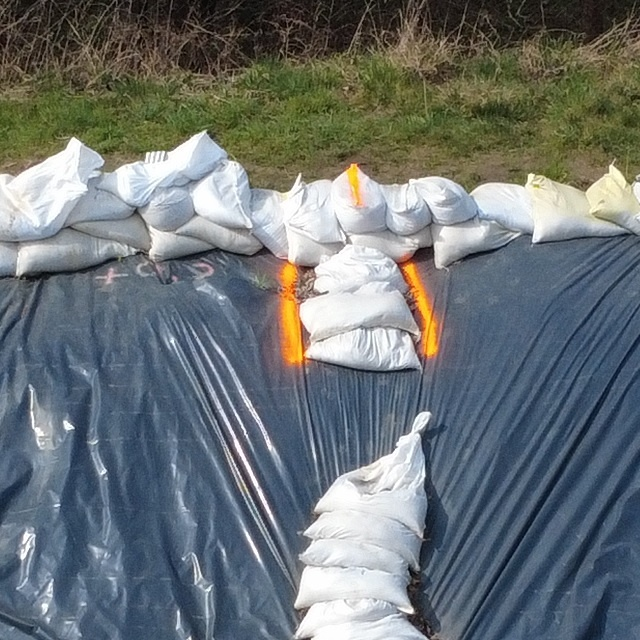sandbag: (314, 412, 431, 538), (0, 138, 104, 243), (525, 174, 628, 244), (300, 282, 420, 342), (303, 511, 422, 571), (16, 228, 138, 277), (295, 567, 414, 614), (300, 539, 410, 585), (307, 328, 420, 372), (432, 218, 521, 269), (314, 245, 406, 294), (190, 160, 252, 231), (295, 599, 400, 640), (283, 176, 345, 242), (586, 164, 640, 236), (332, 166, 386, 235), (175, 216, 263, 255), (98, 163, 174, 208), (409, 177, 478, 226), (346, 226, 432, 263), (471, 183, 533, 234), (72, 213, 150, 252), (312, 615, 427, 640), (170, 132, 227, 182), (66, 186, 134, 227), (137, 186, 196, 232), (285, 222, 344, 267), (251, 189, 288, 260), (381, 184, 431, 236), (148, 226, 214, 261), (143, 152, 192, 187), (632, 175, 640, 200)
